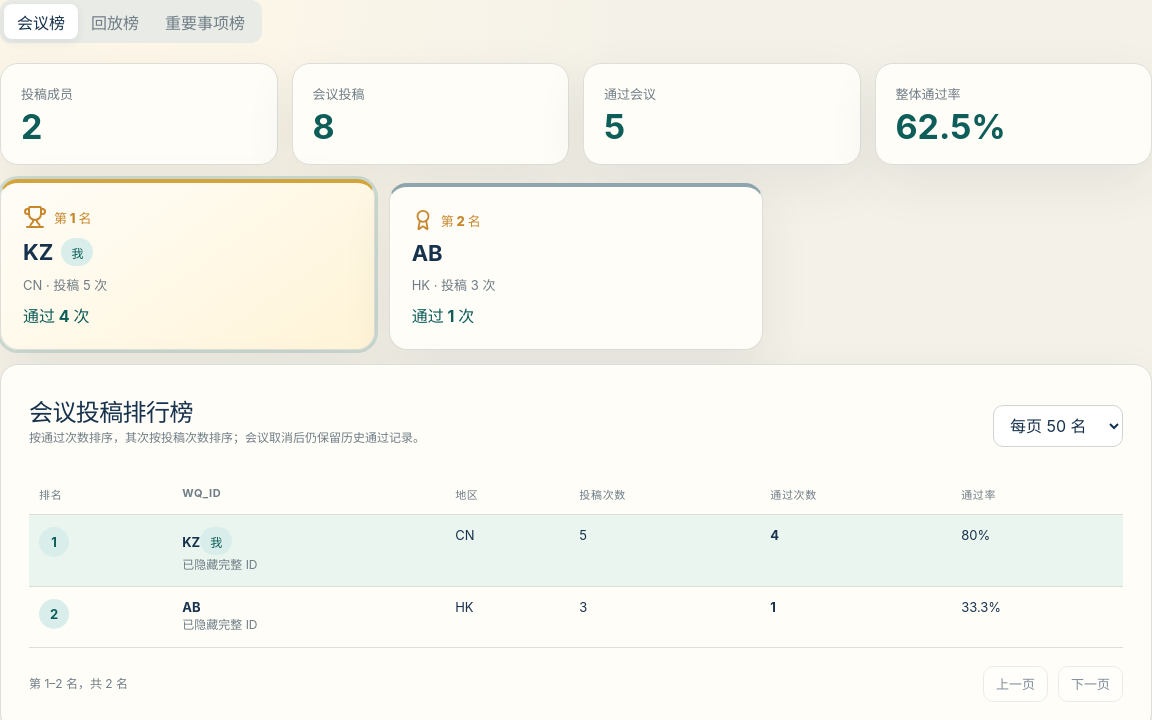
Test: LeaderboardPanel › loads a separate replay ranking ordered around contributed meetings
Click the button "回放榜" at (115, 22), box [78,4,152,39]
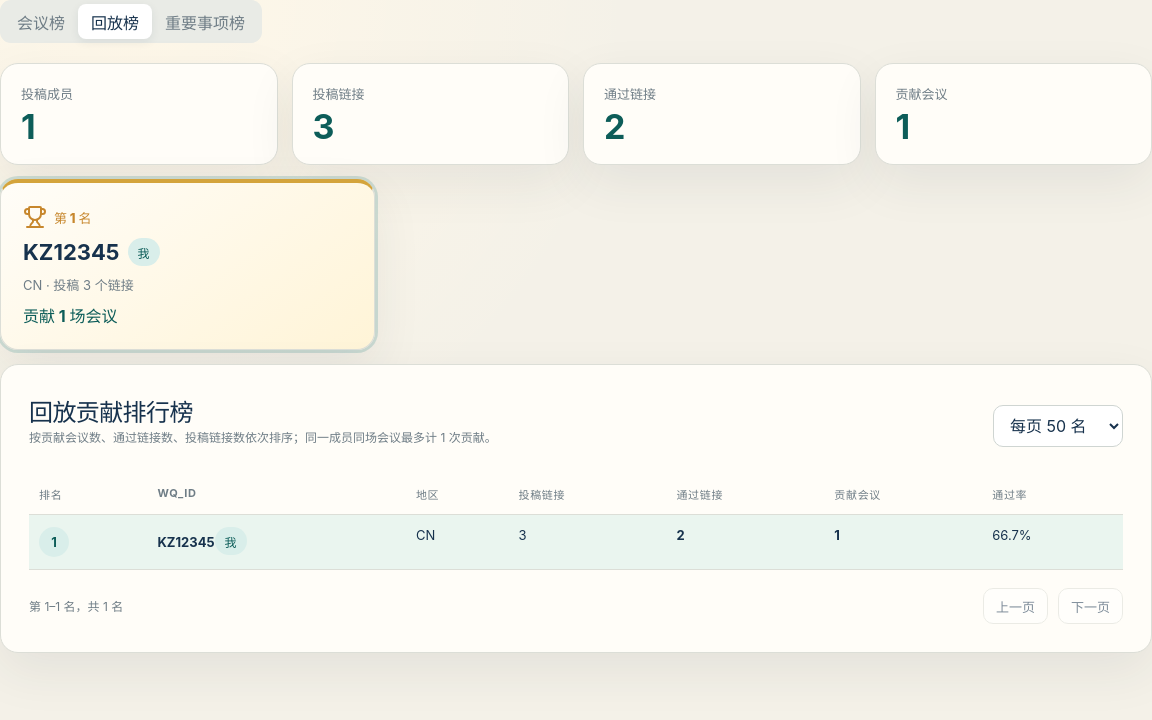
Result: the text "贡献会议" is shown at [896,86,948,102]
Result: the text "贡献 1 场会议" is shown at [23,306,118,326]
